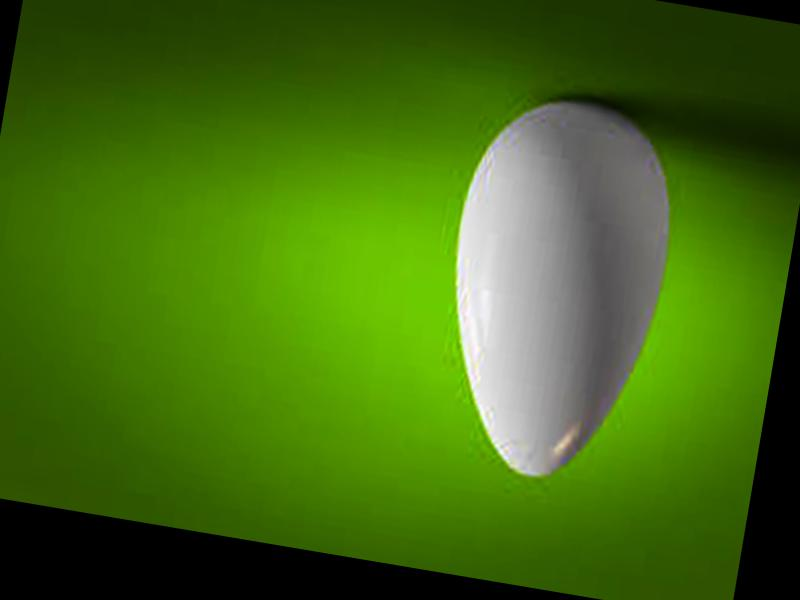Eggs: (420, 86, 689, 498)
